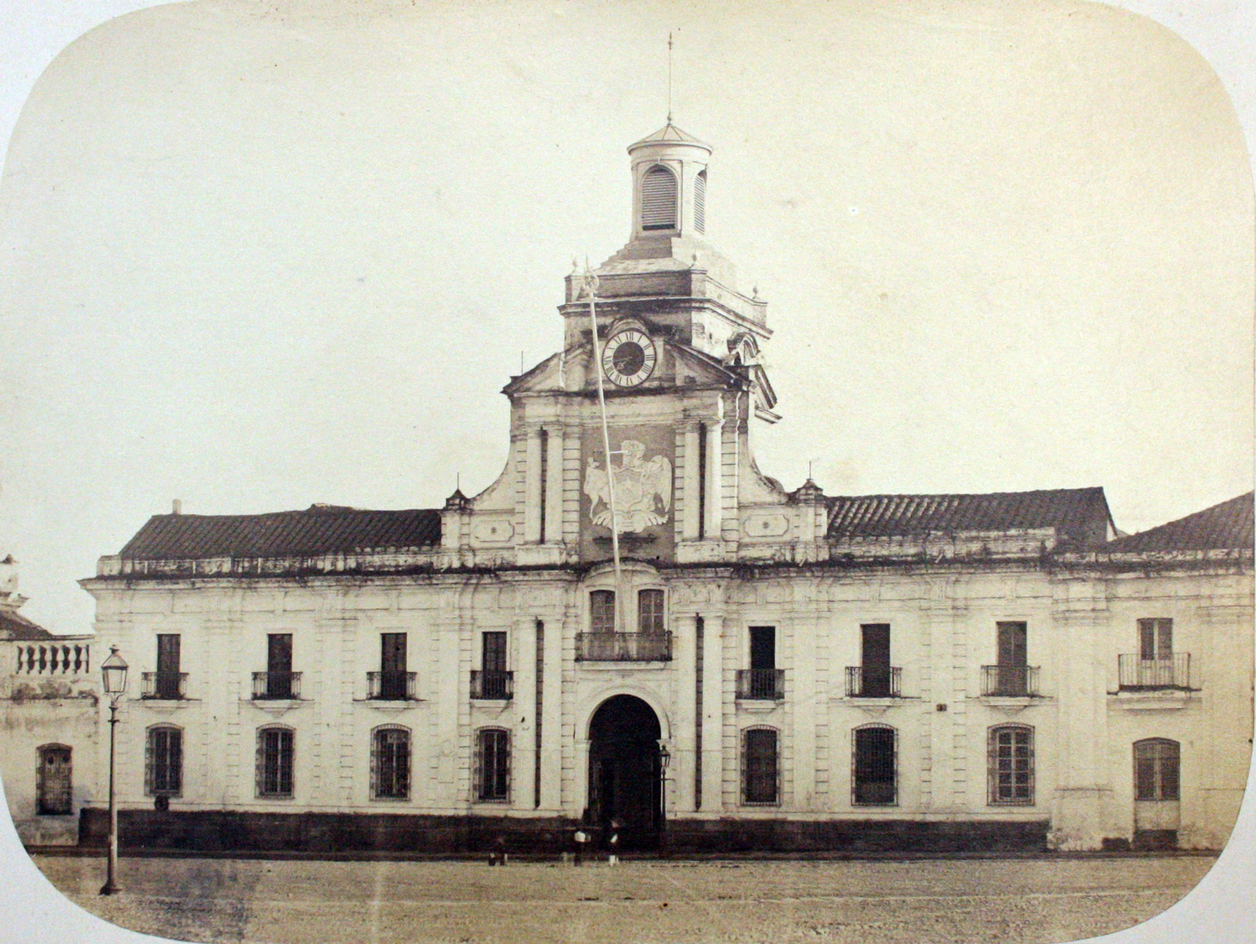fachada: (10, 76, 1243, 856)
poste: (89, 634, 147, 901)
